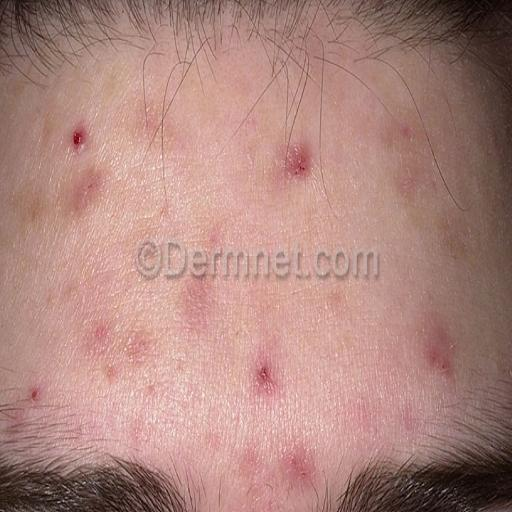Skin_Lesion: (282, 140, 312, 191), (424, 338, 454, 386), (285, 449, 317, 493), (254, 358, 280, 395), (181, 292, 208, 327), (72, 177, 103, 201), (135, 329, 158, 361), (244, 452, 264, 486), (24, 381, 46, 408), (68, 124, 89, 152), (90, 326, 109, 346), (103, 366, 120, 384), (402, 124, 414, 148), (134, 118, 147, 140)
